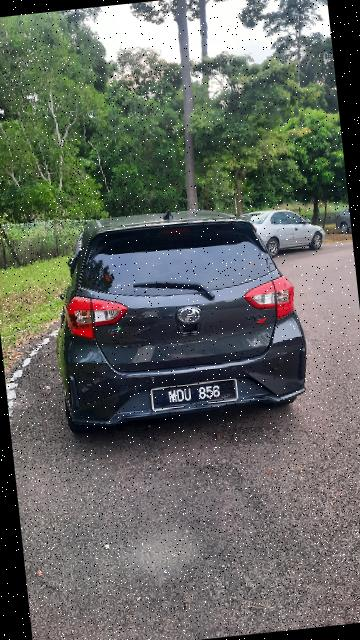License_Plate: (150, 377, 240, 411)
car: (42, 199, 314, 435)
